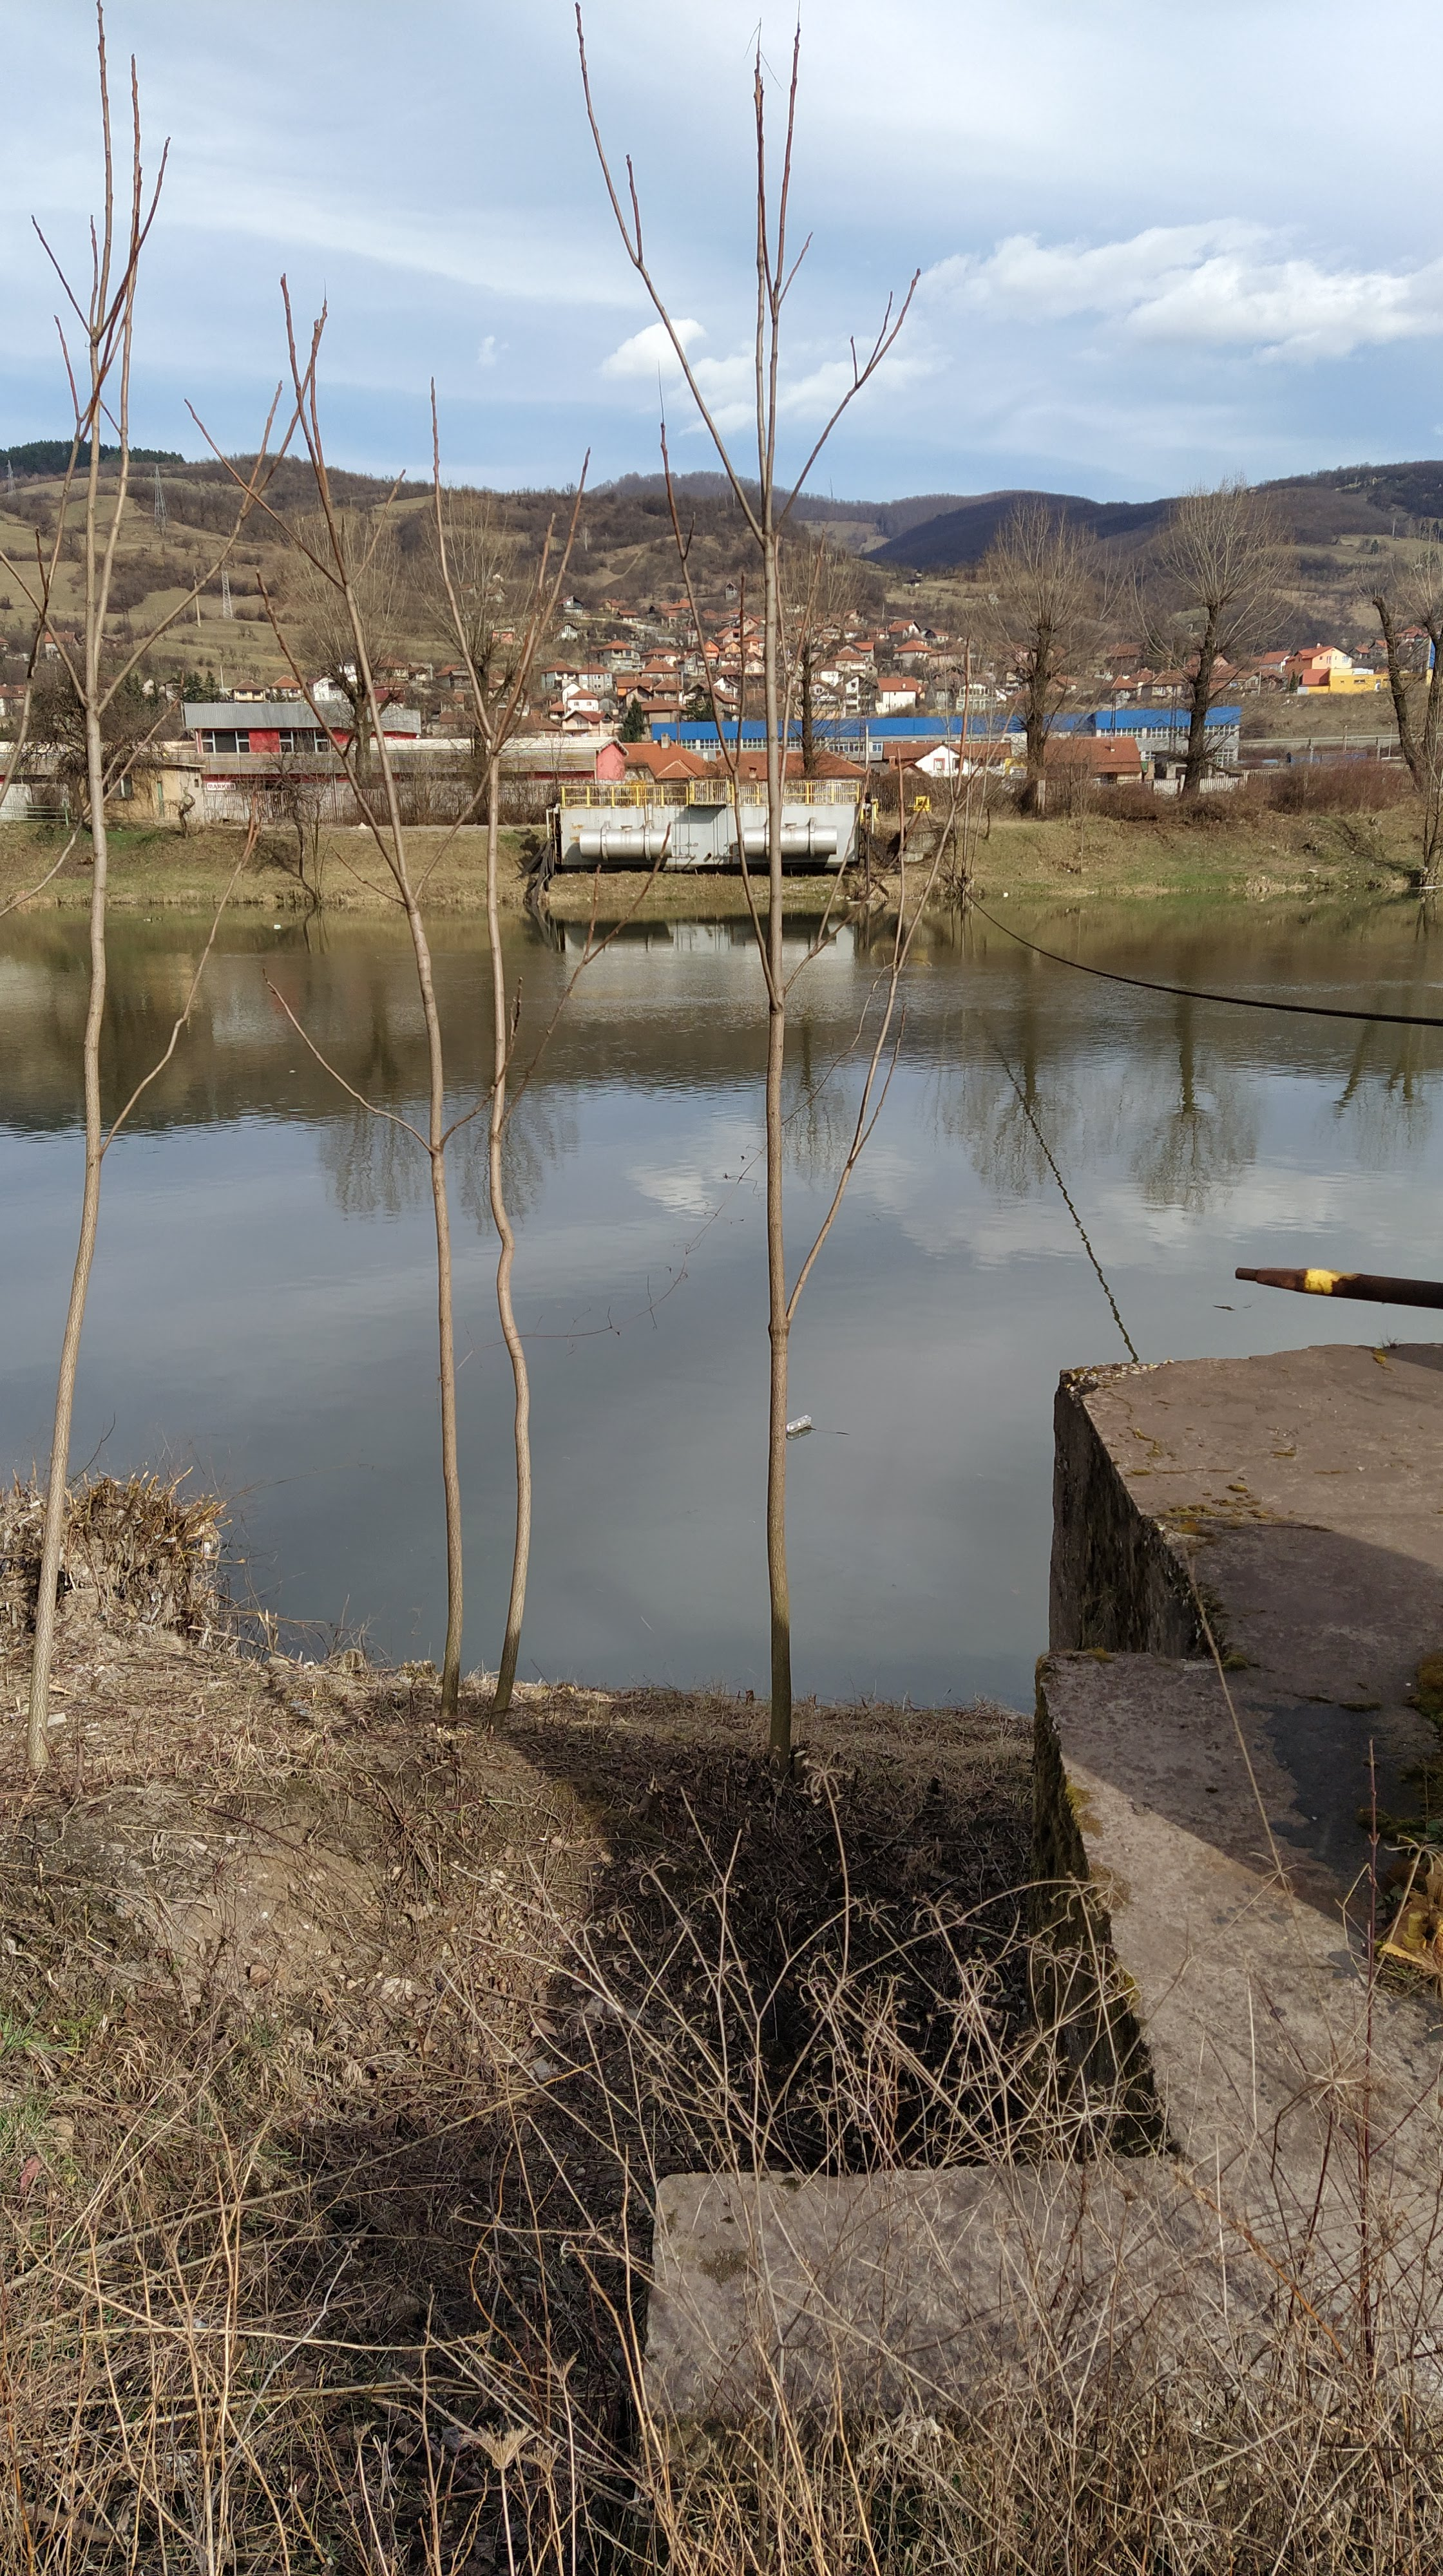Plastic Bottle: (786, 1414, 813, 1433), (273, 924, 280, 929)
